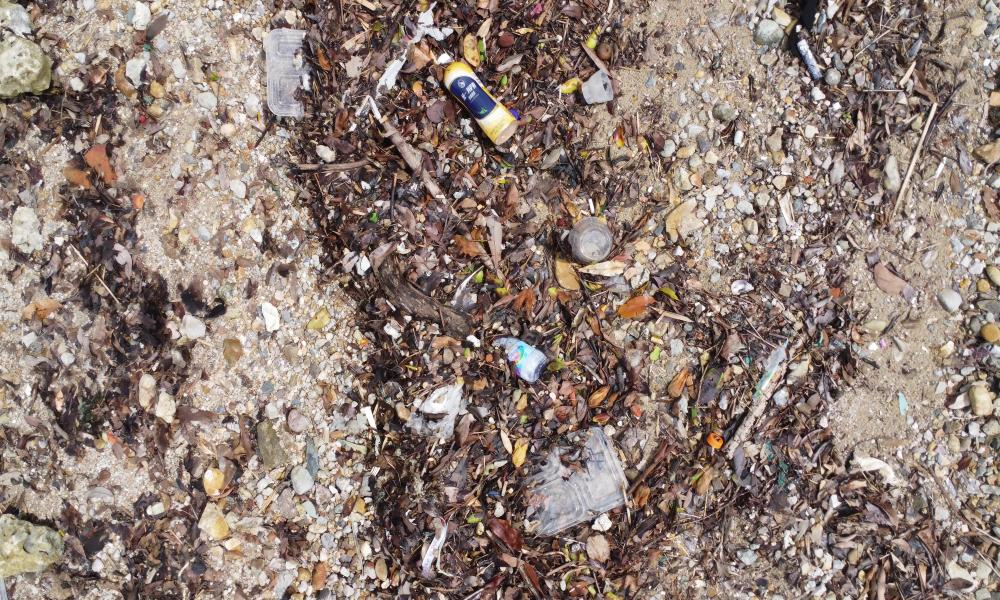plastic bottle: (440, 40, 520, 152), (495, 331, 545, 386)
plastic container: (529, 426, 636, 540), (263, 7, 330, 114)
